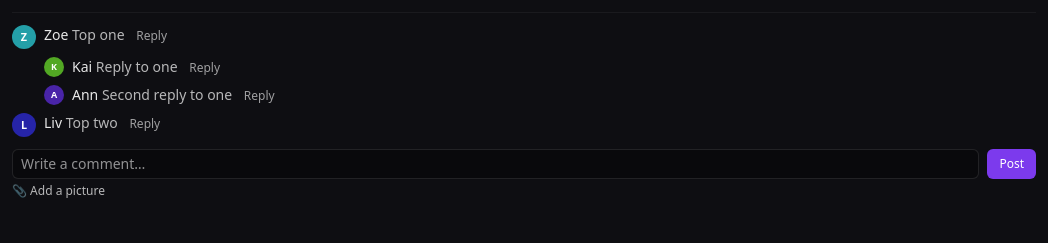
Test case: CommentThread: replies › answers a comment: names the person, says who is being answered, and sends the reply with its comment
This screenshot has width=1048, height=243.
Expected: the text "Top one" is shown, [72,25,124,44]
Click the button with aria-label "Reply to Zoe" at (152, 36), box [136,28,167,44]
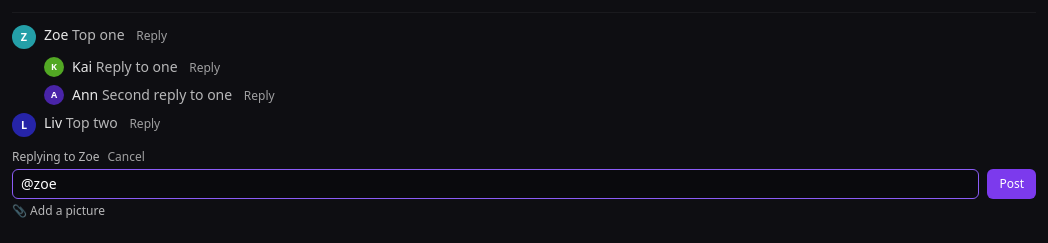
Expected: the text "Replying to Zoe" is shown, [12,149,100,165]
Expected: the field with placeholder "Write a reply…" holds "@zoe "
Type "Thanks" into the field with placeholder "Write a reply…" at (496, 184), box [12,169,979,199]
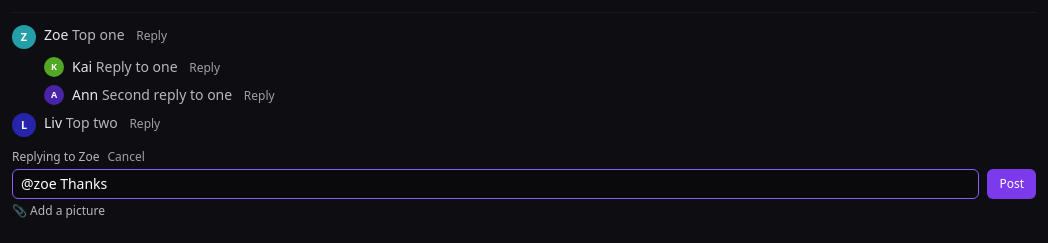
Click the button "Post" at (1012, 184), box [987,169,1036,199]
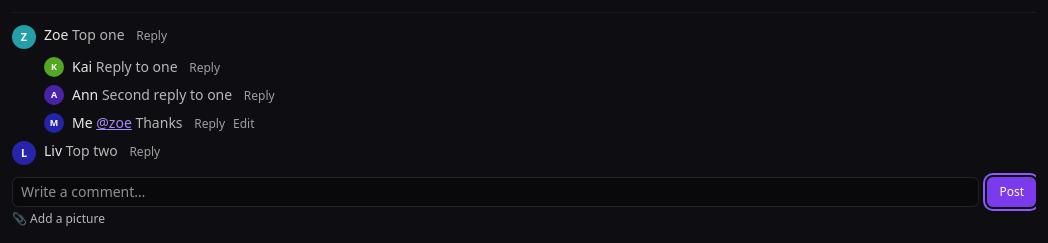
Expected: the text "Top one" is shown, [72,25,124,44]
Expected: the text "Replying to" is gone
Expected: the field with placeholder "Write a comment…" is empty, [12,177,979,207]
